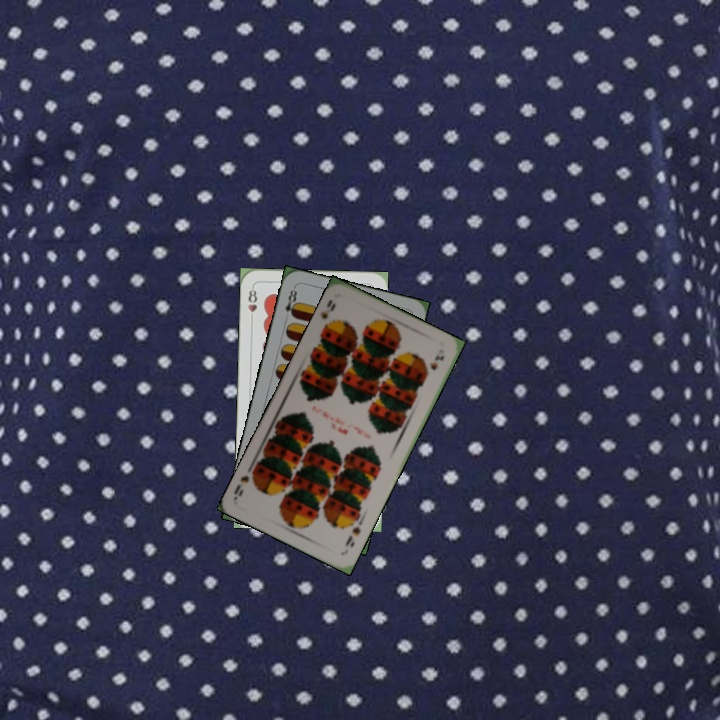E8: (281, 283, 300, 320)
H8: (244, 283, 260, 323)
S9: (317, 295, 338, 333), (341, 522, 363, 550)
